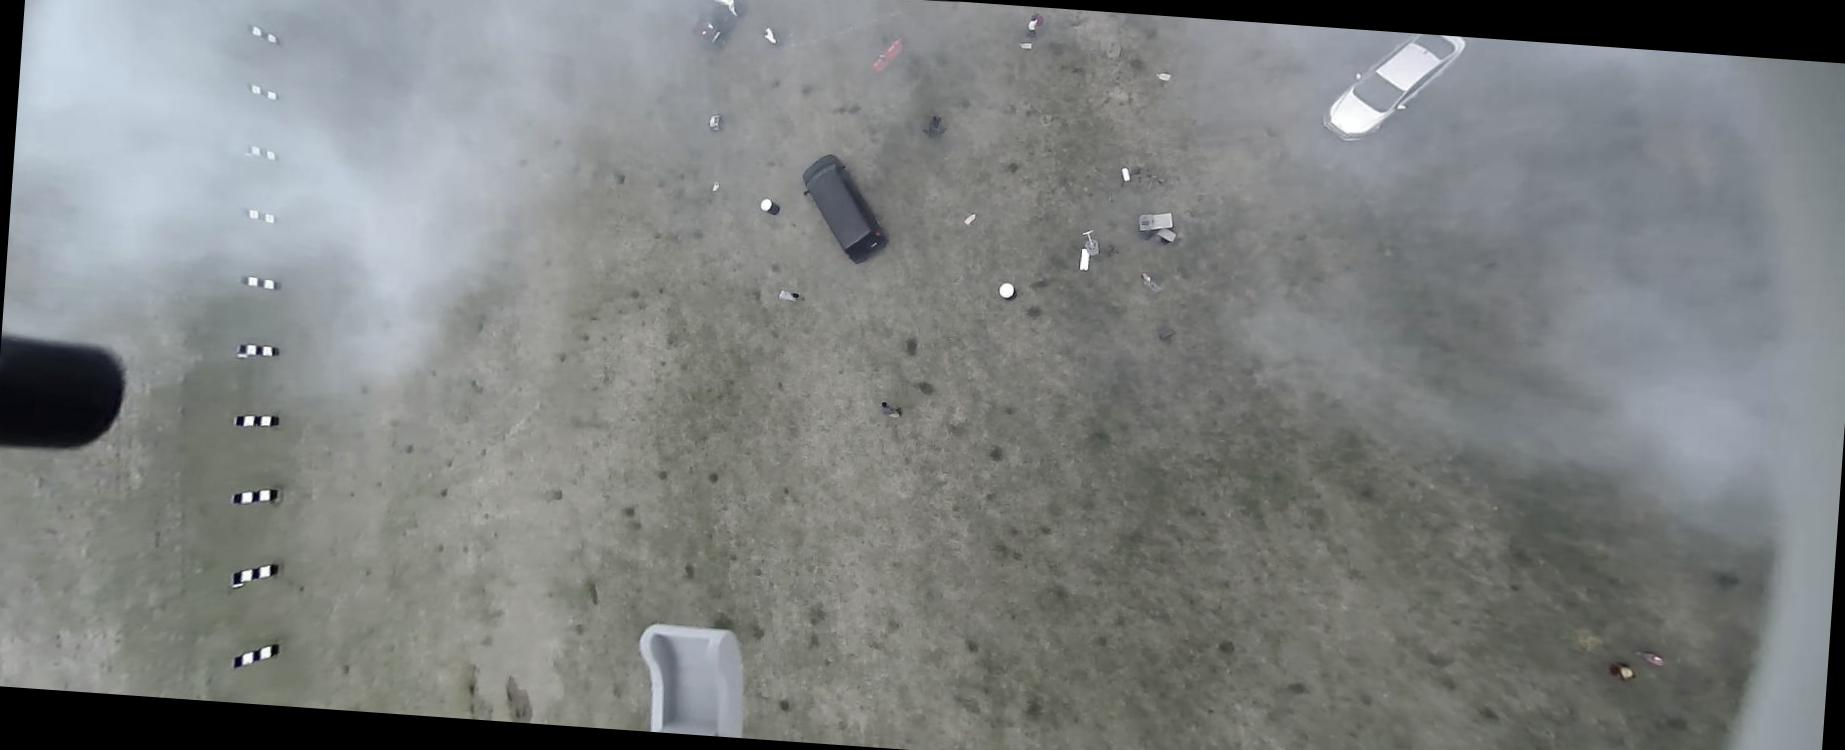vehicle: (1319, 28, 1468, 151), (795, 152, 895, 267), (690, 0, 749, 54)
